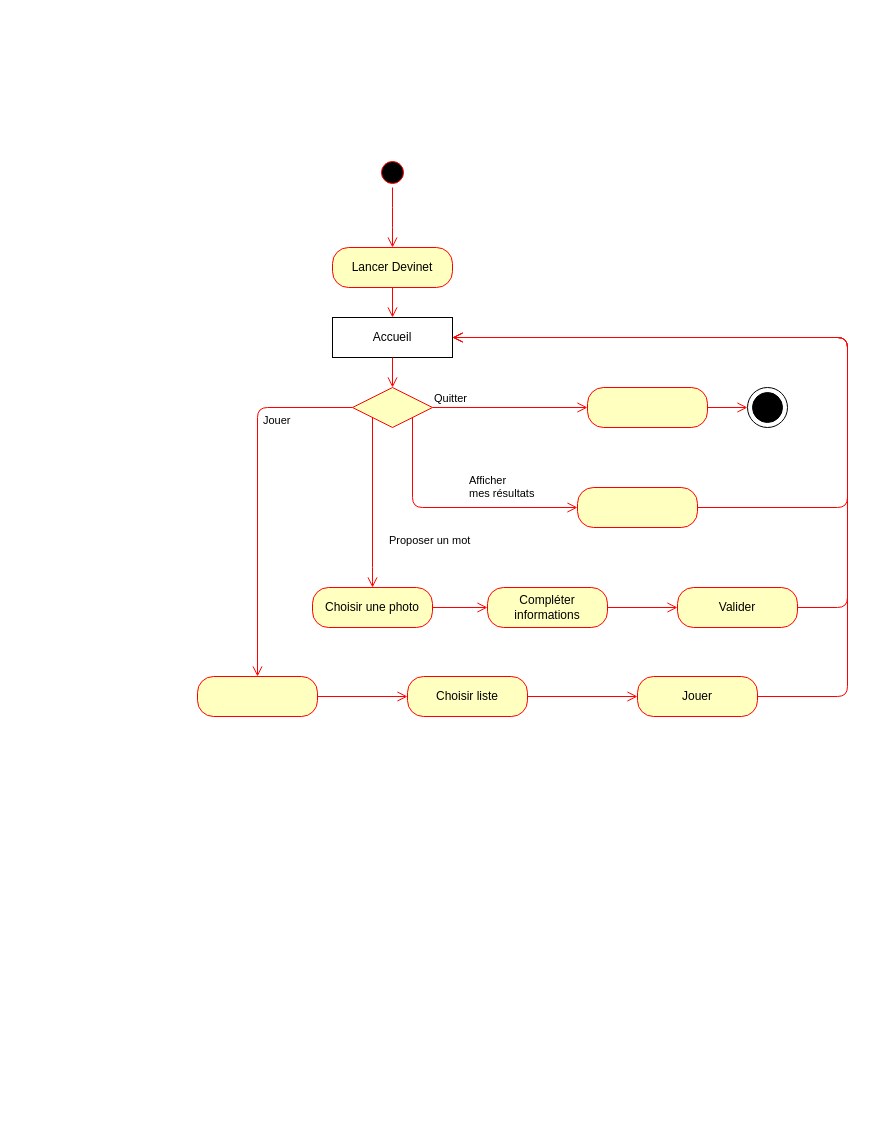
The diagram is 875 pixels wide and 1124 high, and some of its shapes have lost their labels. Here are the shapes that lost their labels. From the top down, the centre of each, then its label:
At (647,407): "Confirmer".
At (637,507): "Consulter résultats".
At (257,696): "Choisir niveau".
